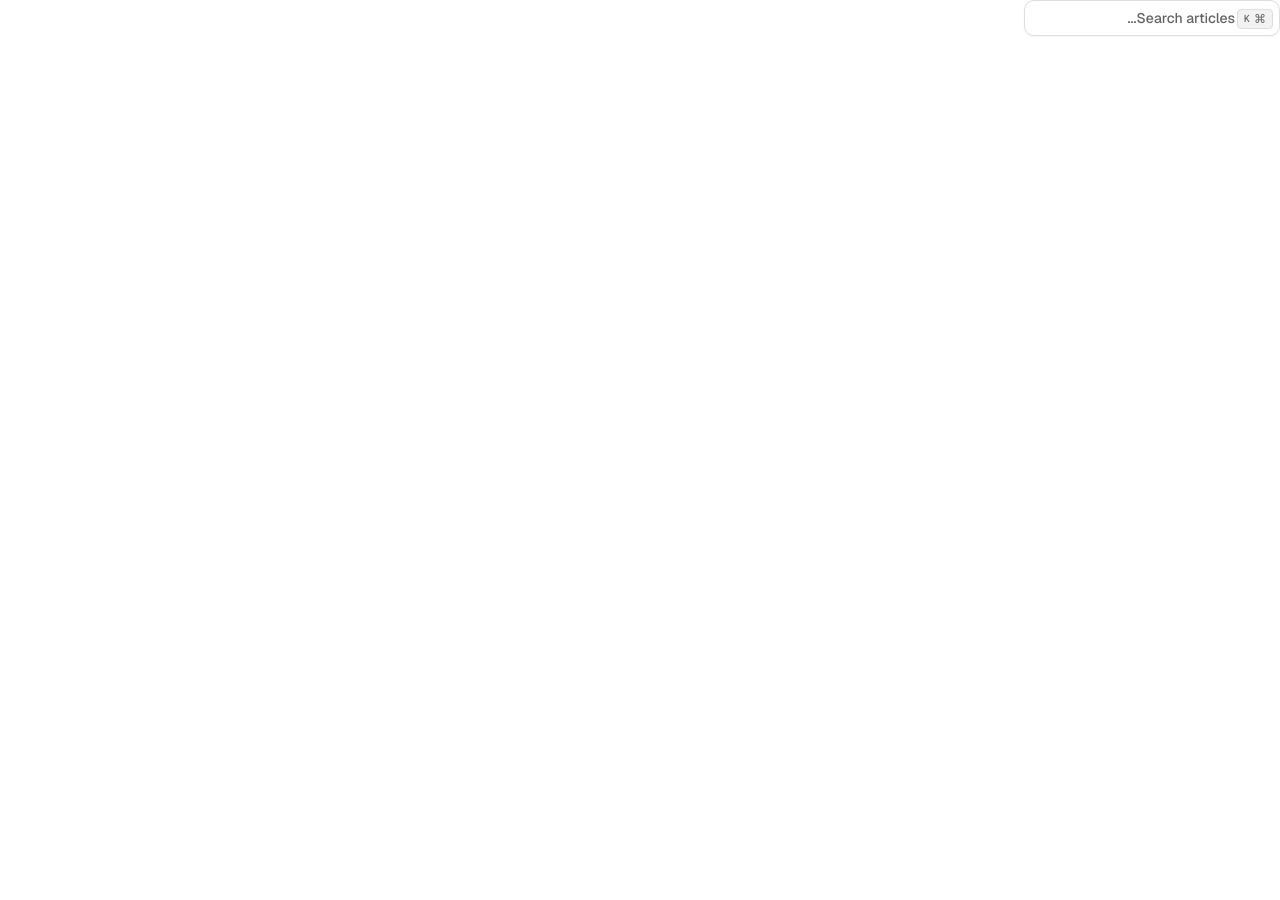
it: SearchBar › opens dialog when clicking search button
Step 1. Click the button → x=1152, y=18, box [1024,0,1279,36]
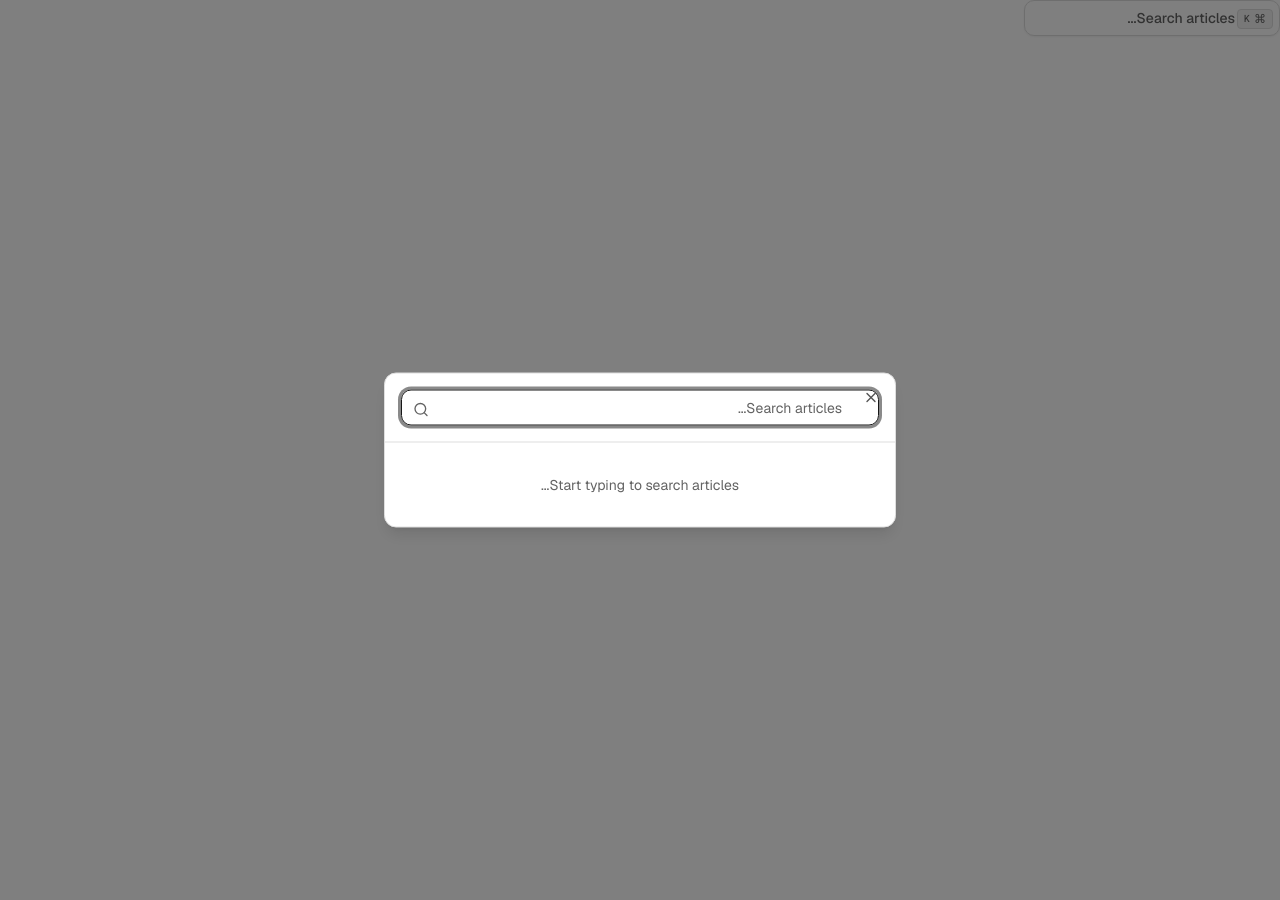
Expected: the dialog is shown, [384,372,896,528]
